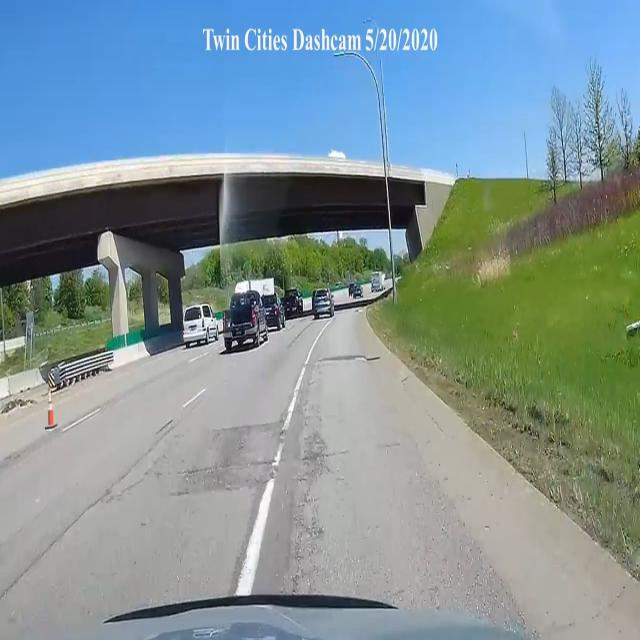cone: (45, 390, 60, 430)
